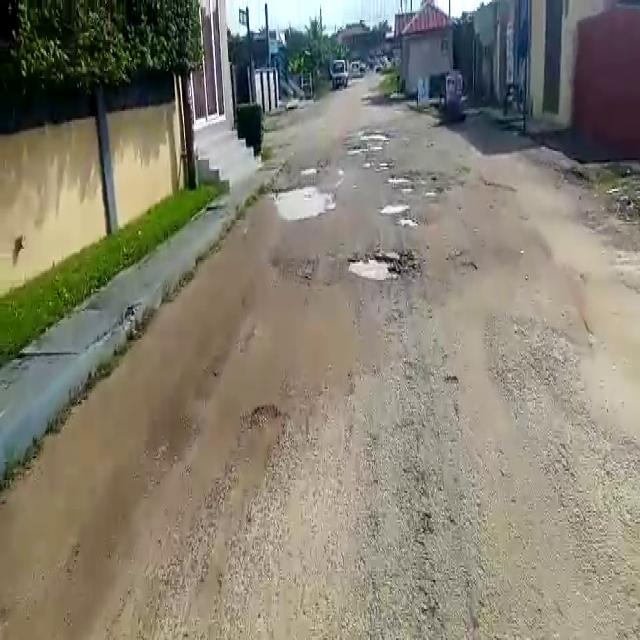Pothole: (266, 181, 336, 218), (347, 248, 413, 282), (388, 174, 423, 188), (380, 203, 411, 217), (396, 215, 418, 228)
